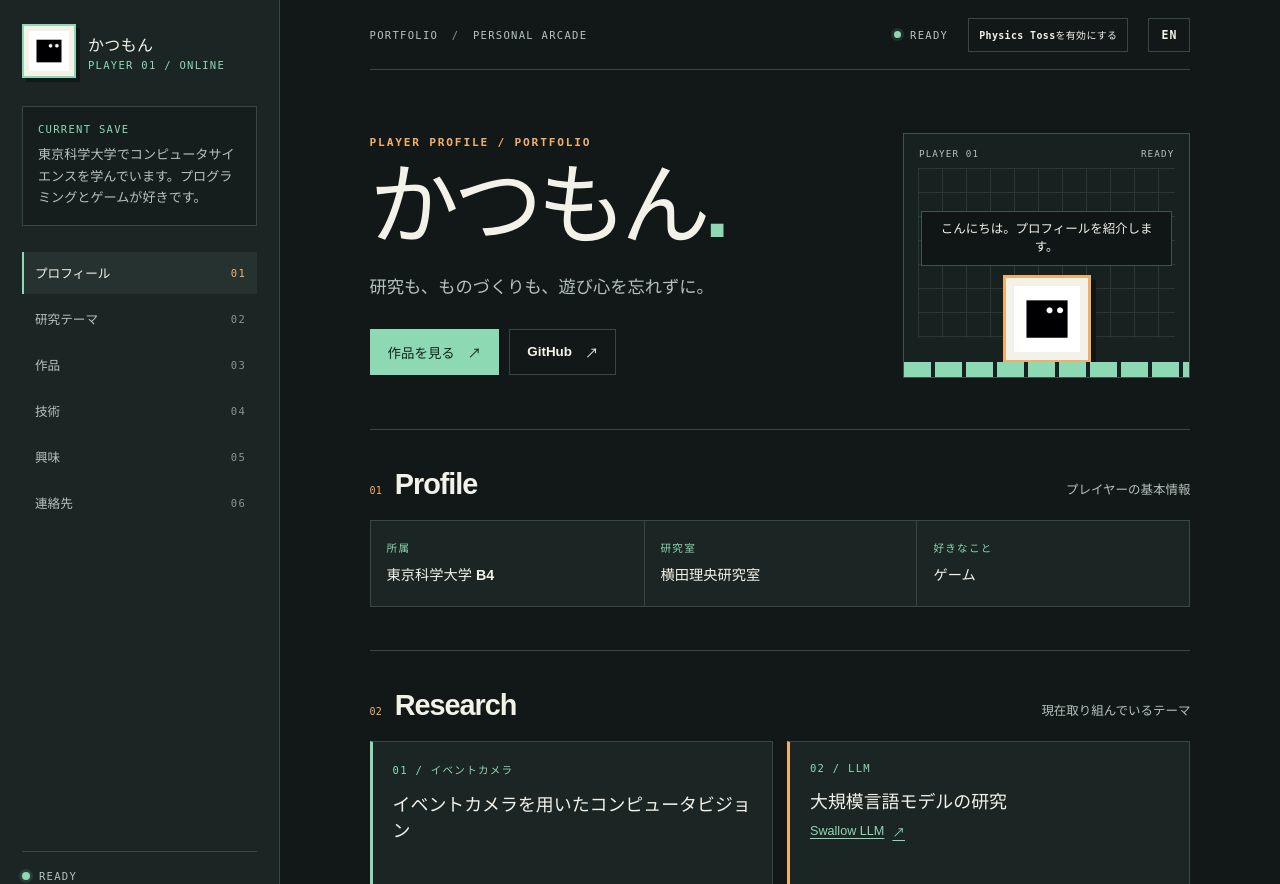
Test case: portfolio screen › shows localized interaction hints only while Physics Toss is enabled
The image size is (1280, 884).
What coordinates should you click on to do the following:
click the button "Physics Tossを有効にする"
I would click on:
 (1048, 34)
Its box is [968, 18, 1128, 52].
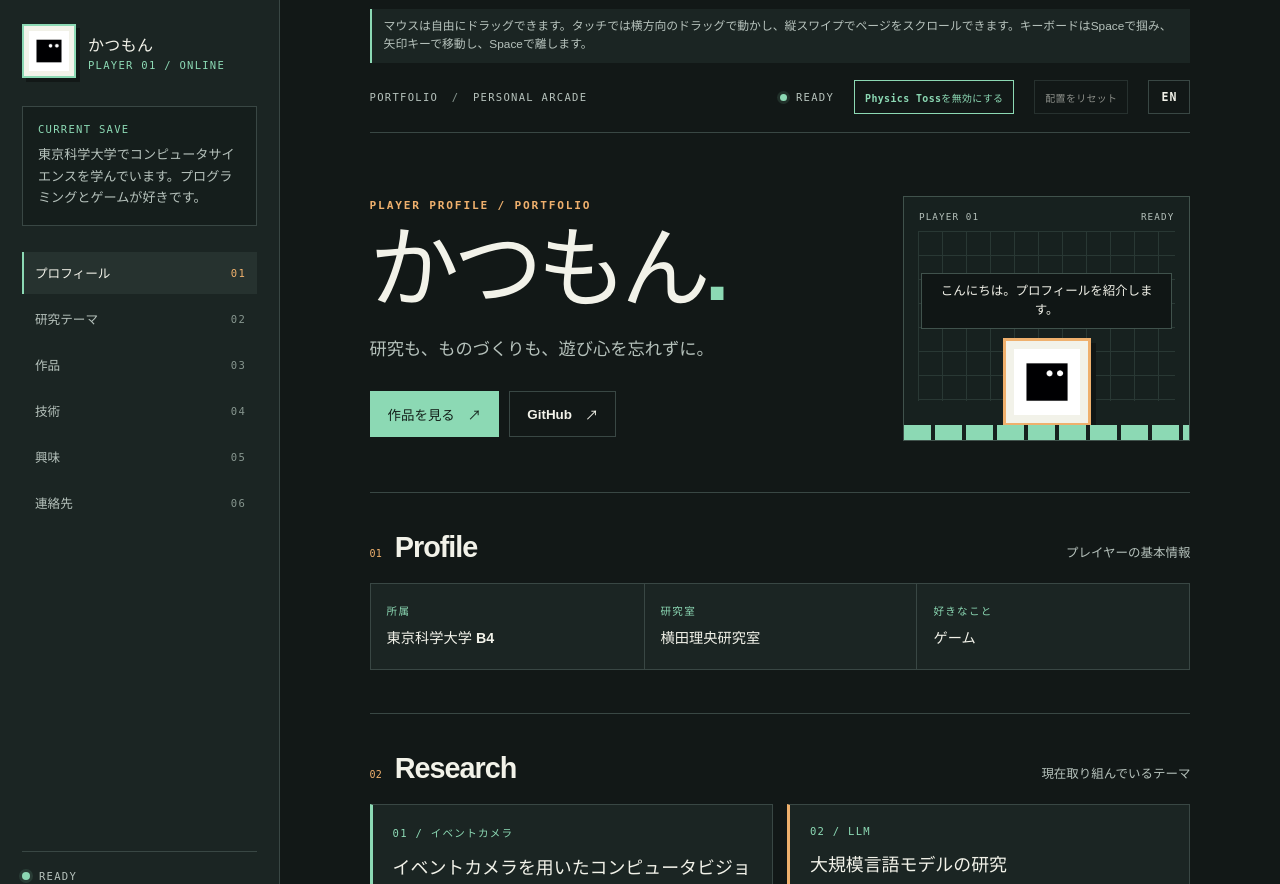
Check: the text "マウスは自由にドラッグできます。タッチでは横方向のドラッグで動かし、縦スワイプでページをスクロールできます。キーボードはSpaceで掴み、矢印キーで移動し、Spaceで離します。" is shown, box [384, 19, 1172, 51]
What coordinates should you click on to do the following:
click the button with aria-label "英語に切り替え"
I would click on:
 (1169, 97)
Its box is [1148, 80, 1190, 114].
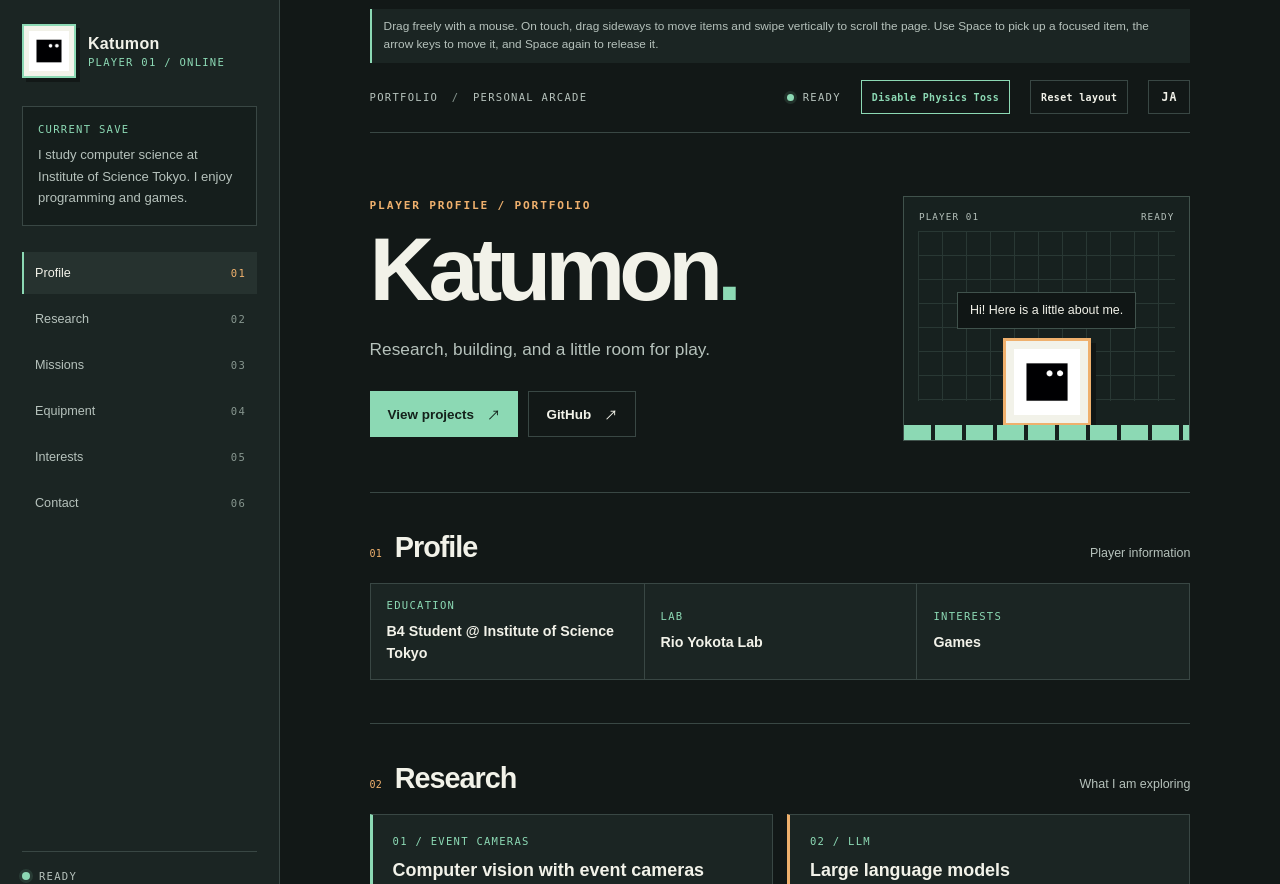
Check: the text "Drag freely with a mouse. On touch, drag sideways to move items and swipe vertically to scroll the page. Use Space to pi" is shown, box [384, 19, 1149, 51]
